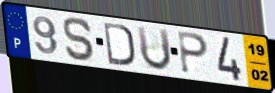4: (216, 35, 244, 83)
9: (31, 15, 58, 55)
D: (102, 20, 137, 68)
P: (176, 30, 210, 76)
S: (62, 16, 98, 63)
U: (135, 24, 173, 72)
